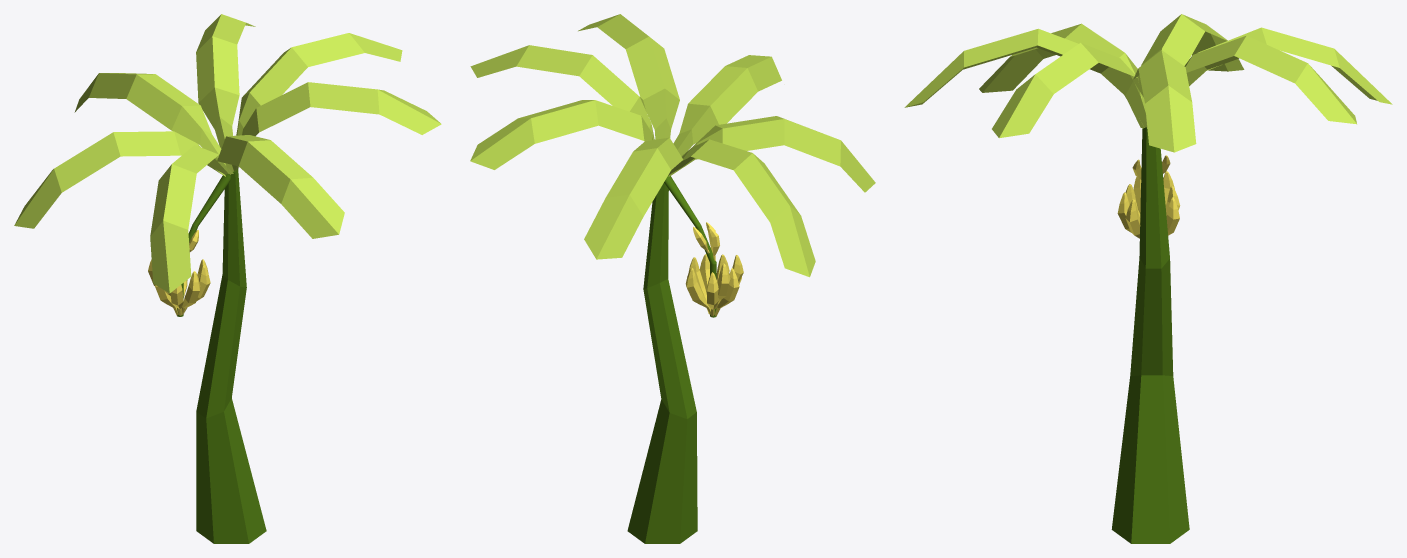
File: lowpolybananatree.fbx
The picture shows the model from 3 angles, left to right: view 1: azimuth 30°, elevation 25°; view 2: azimuth 150°, elevation 25°; view 3: azimuth 270°, elevation 25°; orthographic projection. The views are drawn at different scales.
Visible parts, largest first — view 1: BnnTreeTrunk; view 2: BnnTreeTrunk; view 3: BnnTreeTrunk.
Boxes of the visible parts, x1=… form: BnnTreeTrunk: x1=14, y1=14, x2=441, y2=543; BnnTreeTrunk: x1=470, y1=14, x2=875, y2=543; BnnTreeTrunk: x1=904, y1=14, x2=1392, y2=543.
Size of the model in its own units: 1387 by 1691 by 1455.
